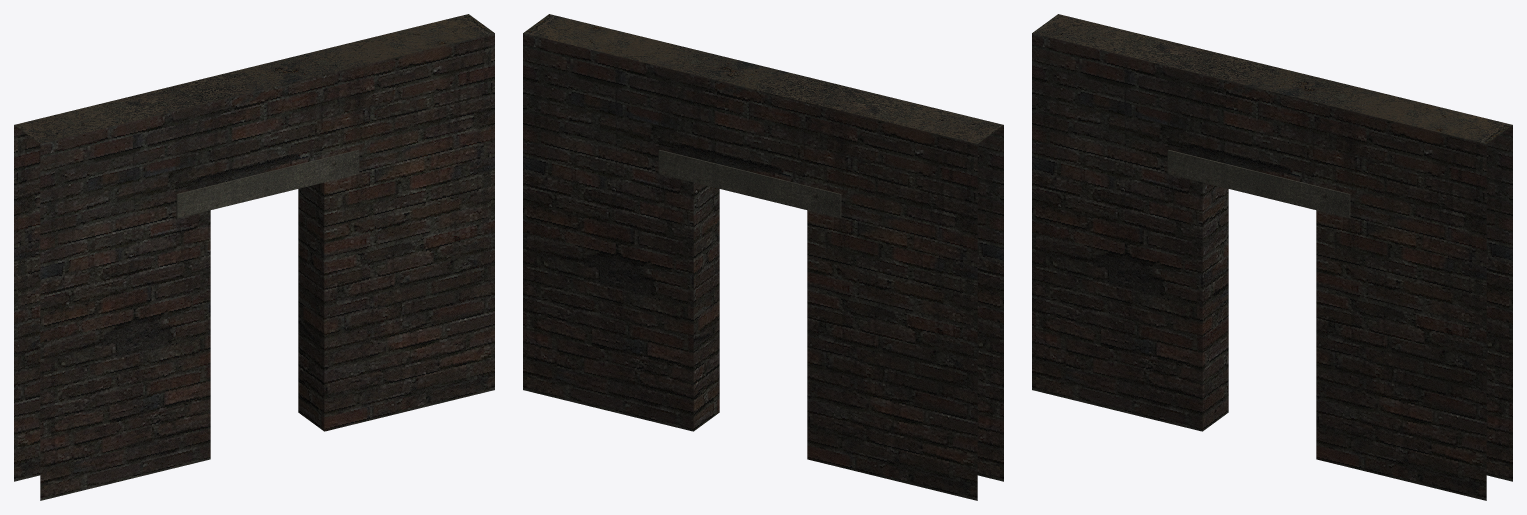
The model's file is doorway_hs_1_regular.glb.
3 renders of one model, left to right at view 1: azimuth 30°, elevation 25°; view 2: azimuth 150°, elevation 25°; view 3: azimuth 330°, elevation 25°, orthographic.
Parts seen in each view (by area): view 1: doorway_hs_1_regular; view 2: doorway_hs_1_regular; view 3: doorway_hs_1_regular.
Part boxes in pixels (x1,y1,x2,y2): doorway_hs_1_regular: [14, 14, 494, 500]; doorway_hs_1_regular: [523, 14, 1003, 500]; doorway_hs_1_regular: [1032, 14, 1512, 500].
Bounding box in the file's own units: 4 × 3 × 0.42.
3 materials, 3 textured.
